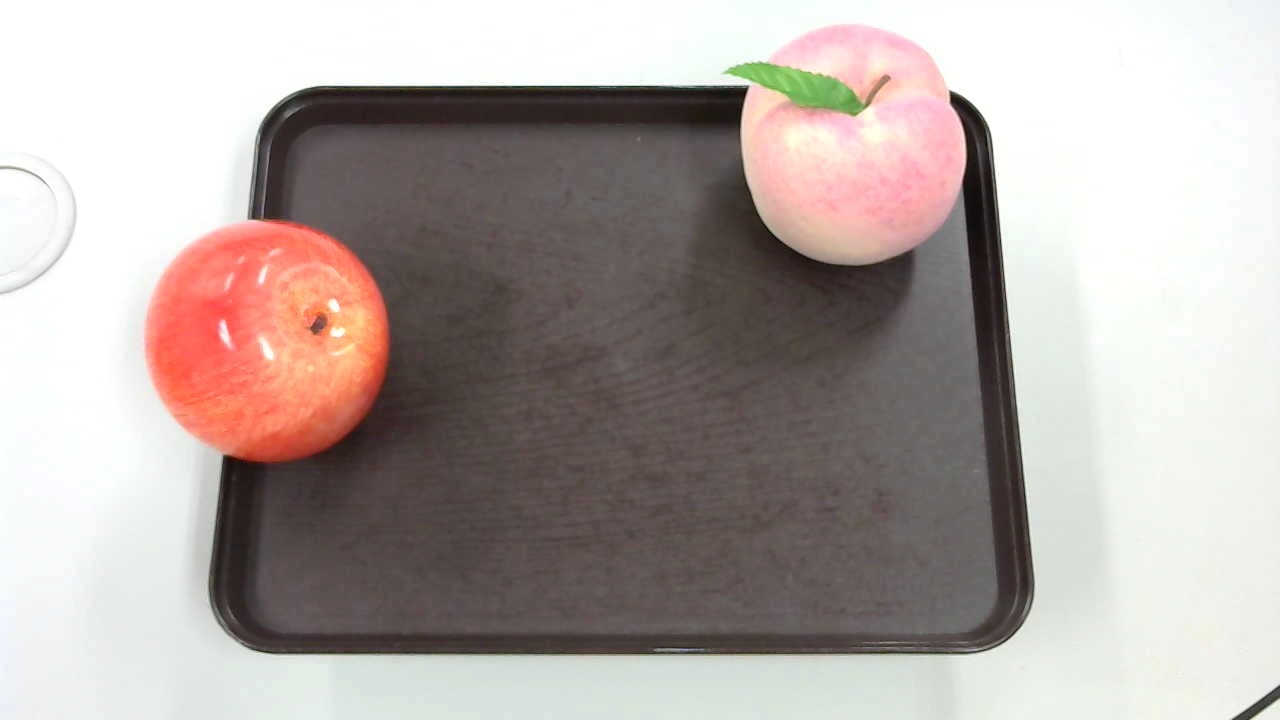peach: (721, 21, 966, 262)
red apple: (144, 213, 389, 470)
